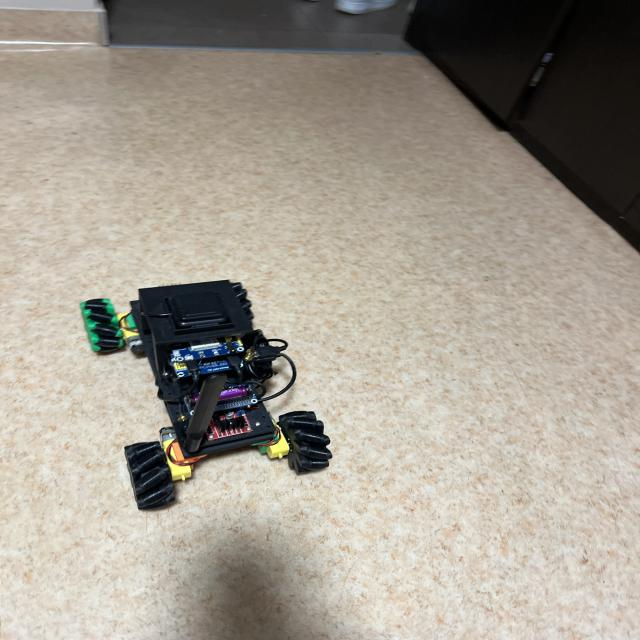robot: (81, 280, 332, 510)
